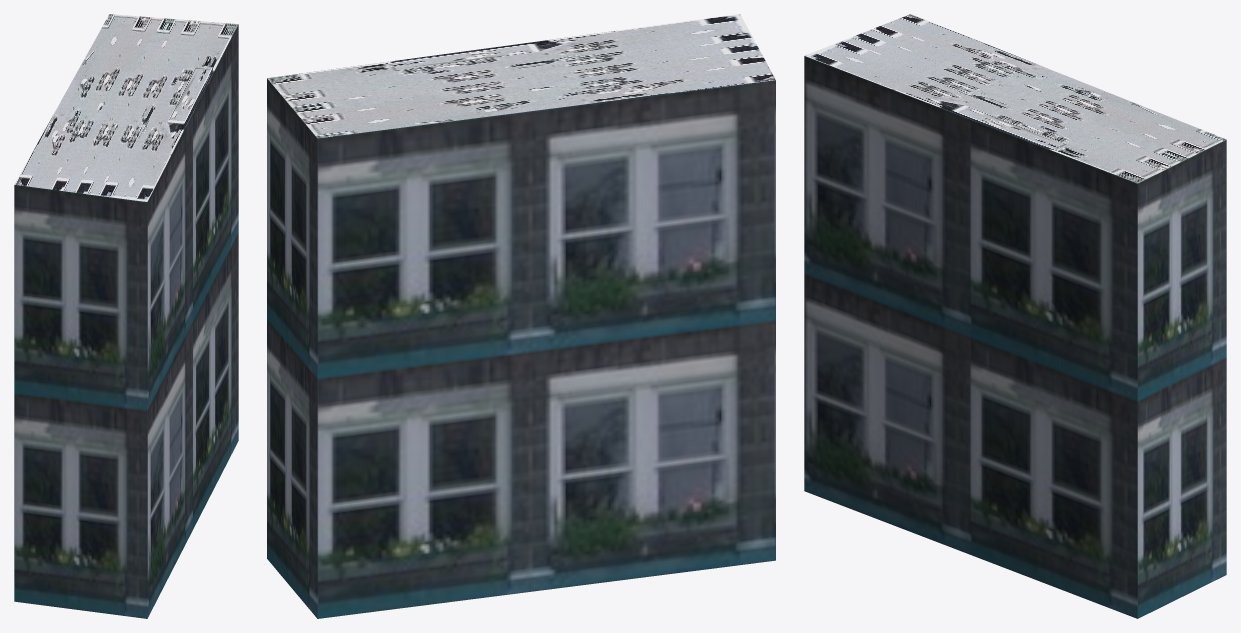
Rendered from ResTex__3950.fbx.
3 renders of one model, left to right at view 1: azimuth 30°, elevation 25°; view 2: azimuth 150°, elevation 25°; view 3: azimuth 270°, elevation 25°, orthographic. The views are drawn at different scales.
Parts seen in each view (by area): view 1: CityEngineMaterial_11_m, CityEngineMaterial_8_m; view 2: CityEngineMaterial_11_m, CityEngineMaterial_8_m; view 3: CityEngineMaterial_11_m, CityEngineMaterial_8_m.
Part boxes in pixels (box(x1,y1,x2,y2)): CityEngineMaterial_11_m: box(14, 24, 238, 618); CityEngineMaterial_8_m: box(14, 14, 238, 201); CityEngineMaterial_11_m: box(267, 78, 775, 618); CityEngineMaterial_8_m: box(267, 14, 775, 138); CityEngineMaterial_11_m: box(804, 56, 1226, 618); CityEngineMaterial_8_m: box(804, 14, 1226, 183).
Bounding box in the file's own units: 5.01 × 6 × 5.28.
Materials: 2 (2 with a texture image).
